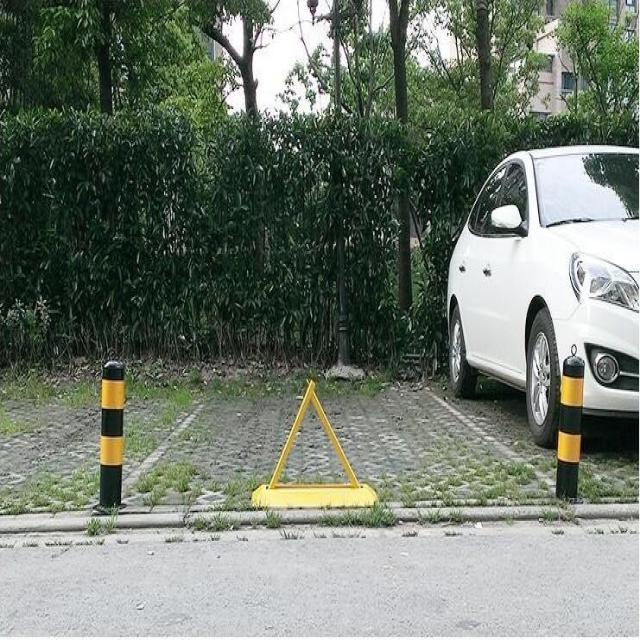car: (443, 135, 639, 446)
warning_column: (95, 356, 130, 506), (557, 342, 586, 499)
